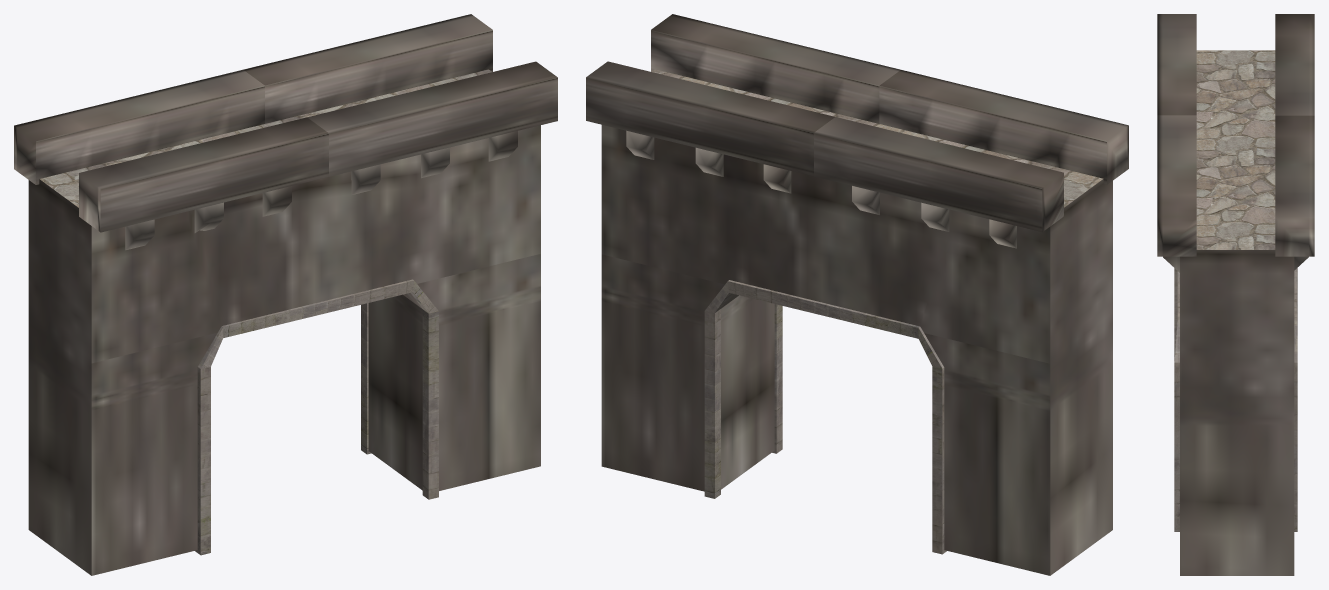
Rendered from gate_lg.glb.
The picture shows the model from 3 angles, left to right: view 1: azimuth 30°, elevation 25°; view 2: azimuth 150°, elevation 25°; view 3: azimuth 270°, elevation 25°; orthographic projection. The views are drawn at different scales.
Visible parts, largest first — view 1: gate_lg; view 2: gate_lg; view 3: gate_lg.
Part boxes in pixels (box(x1,y1,x2,y2)): gate_lg: box(14, 14, 557, 575); gate_lg: box(586, 14, 1128, 575); gate_lg: box(1157, 14, 1314, 575).
Size of the model in its own units: 16.2 by 13.55 by 5.32.
3 materials, 3 textured.
